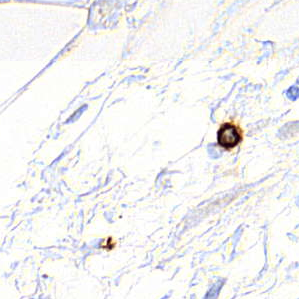Lymphocyte: (215, 121, 244, 149)
